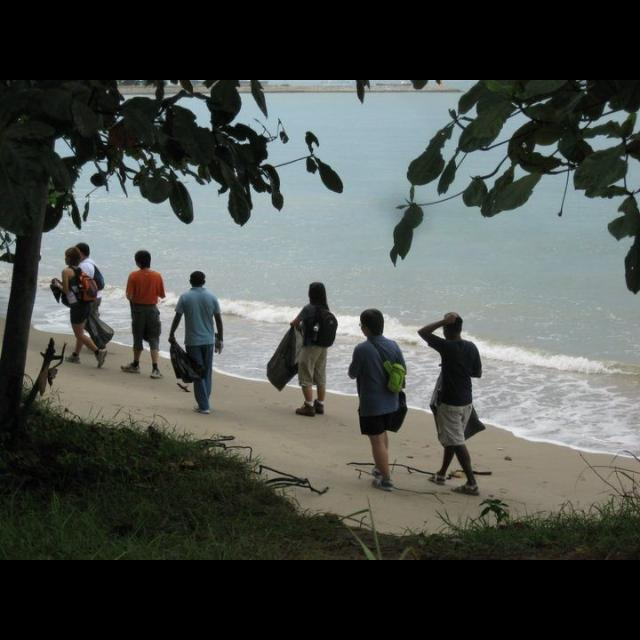head: (361, 310, 385, 338), (442, 314, 463, 338), (65, 246, 83, 268), (310, 283, 328, 303), (135, 250, 153, 268), (74, 242, 90, 262), (189, 271, 207, 287)
person: (414, 306, 490, 498), (344, 304, 411, 493), (263, 280, 341, 420), (165, 270, 227, 418), (49, 245, 117, 371), (118, 246, 170, 382), (62, 238, 110, 352)
